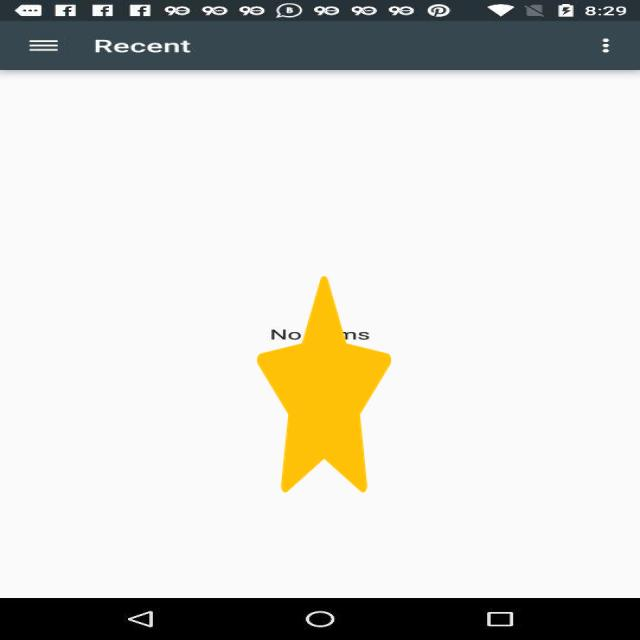forced continuity: (257, 276, 391, 493)
